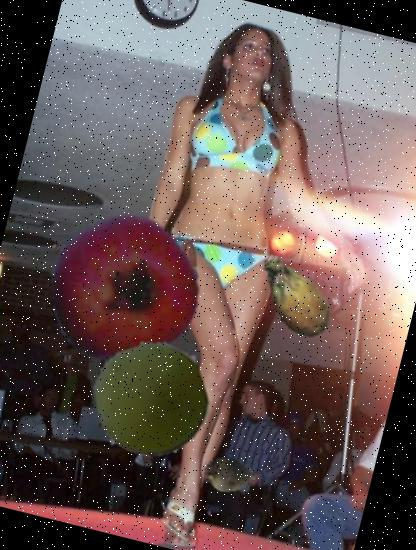Beetroot: (194, 438, 266, 510)
Cactus: (238, 238, 352, 352)
Grape: (80, 330, 222, 470)
Pomegranate: (34, 199, 215, 380)
